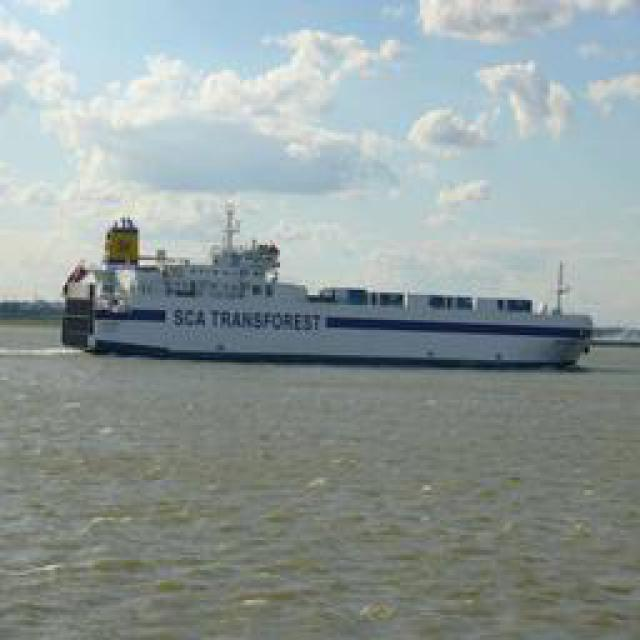Ship: (54, 209, 607, 369)
